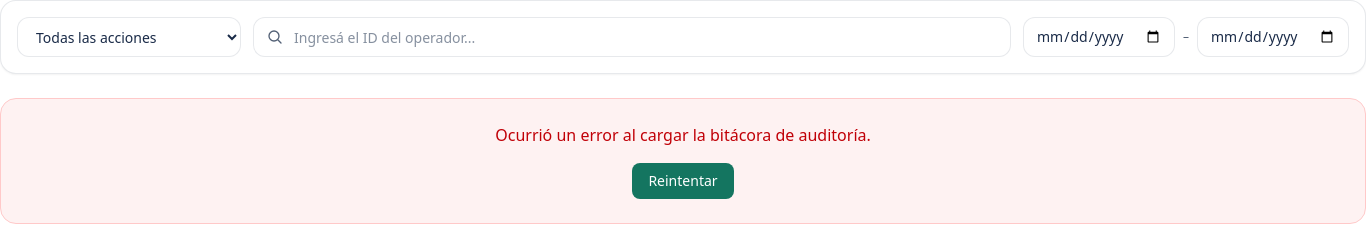
AuditConsolePage › displays error message and allows retry
Check: the text "Ocurrió un error al cargar la bitácora de auditoría." is shown, box [495,124,871,146]
Click the button "Reintentar": (683, 181) [632,163,734,199]
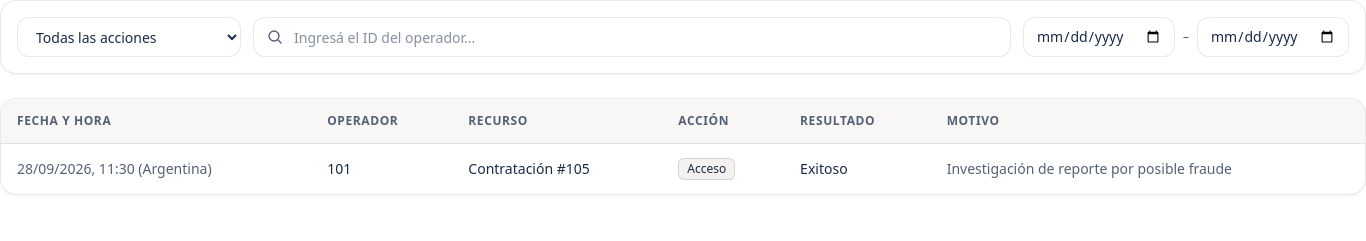
Check: the text "101" is shown, box [311,144,452,194]
